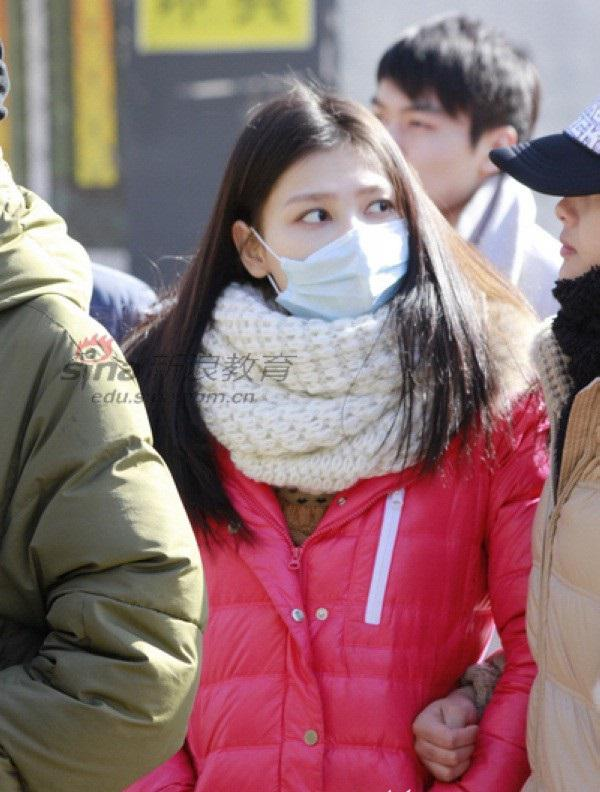NONE: (367, 95, 480, 213), (554, 169, 600, 285)
OK: (270, 176, 420, 326)
